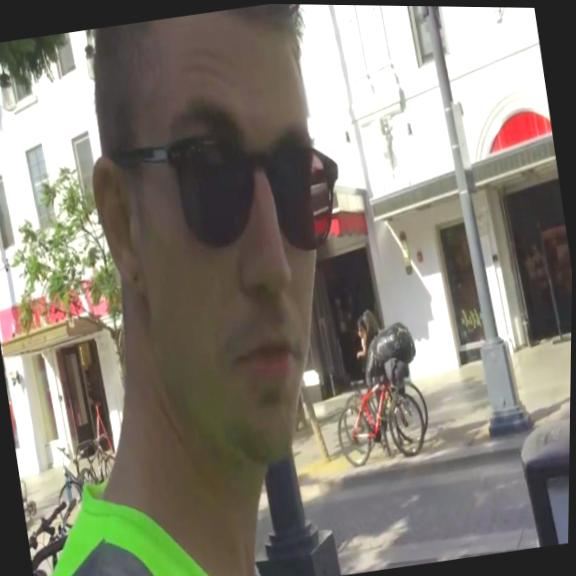safety_vest: (19, 455, 252, 576)
